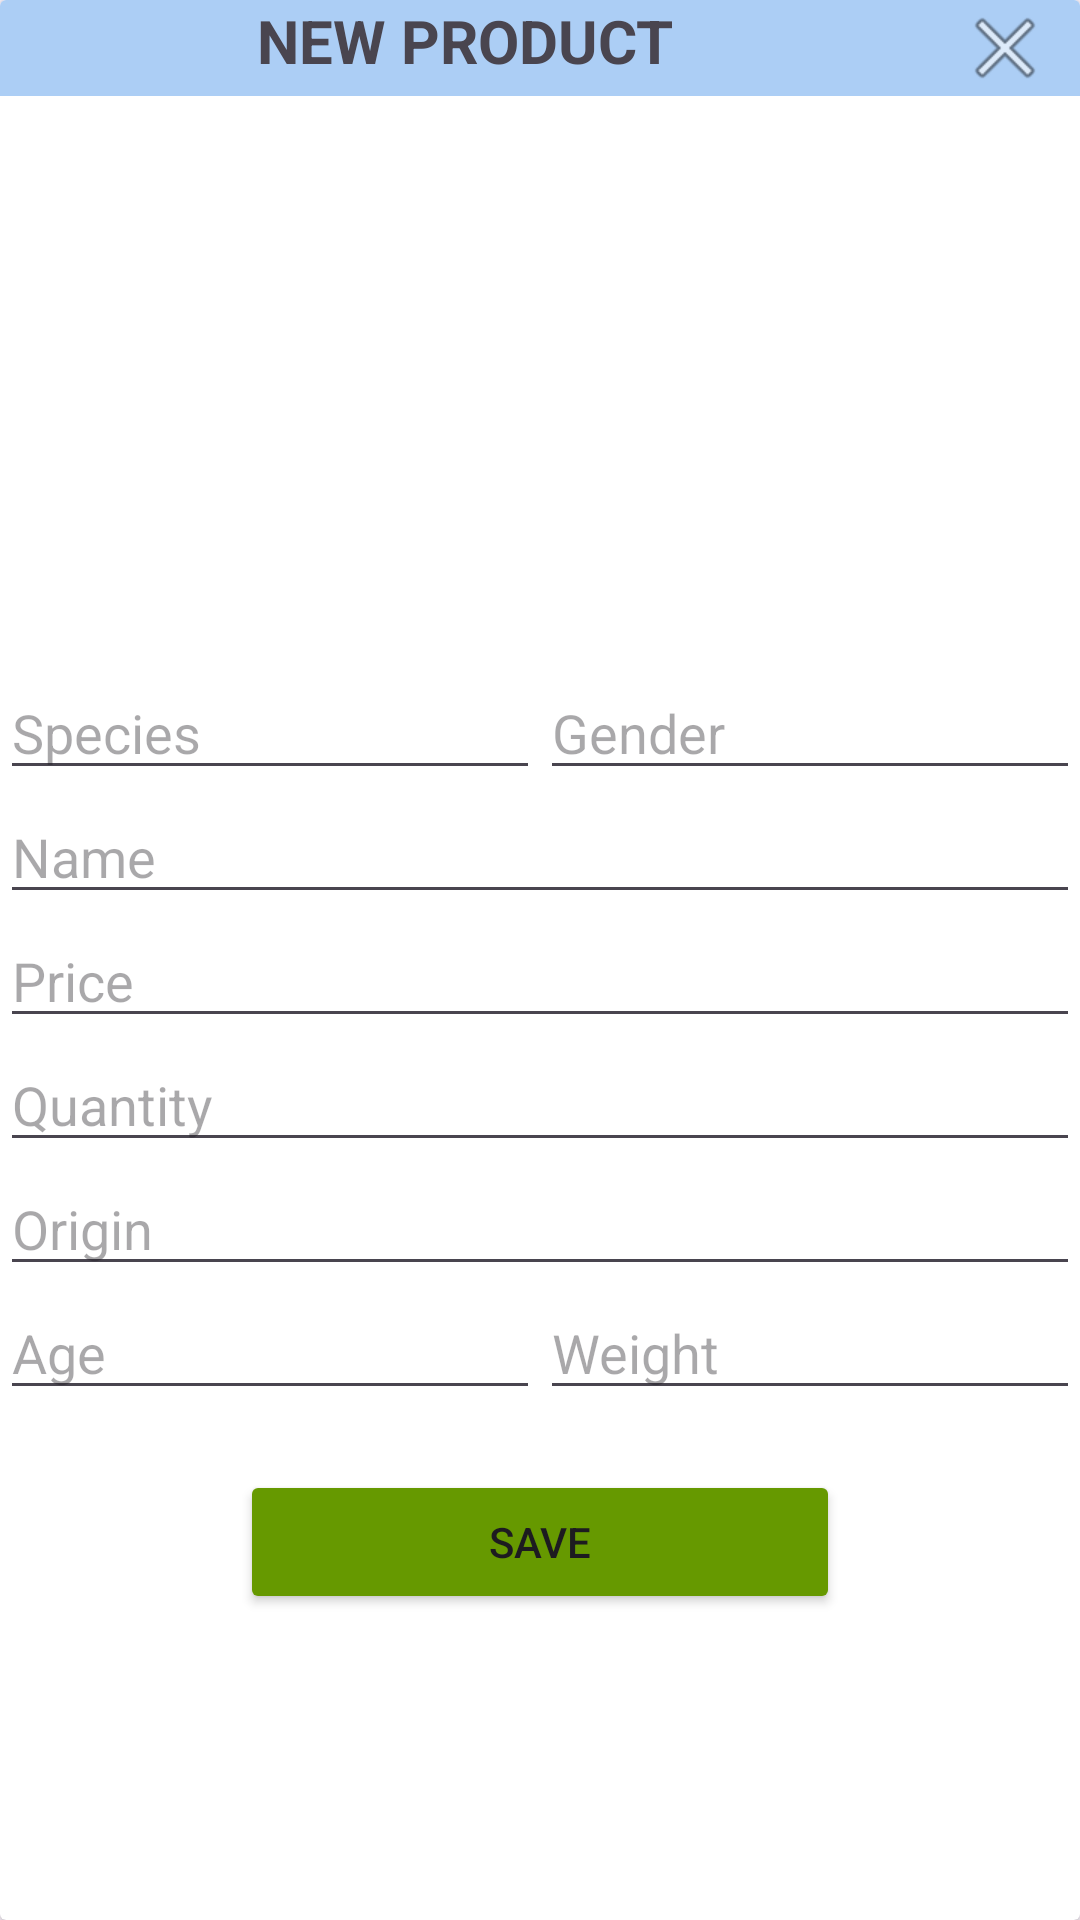

Screen size 1080w x 1920h. Icon name, then its center in pixels as (x,y):
close clear cancel: (1027,39)
